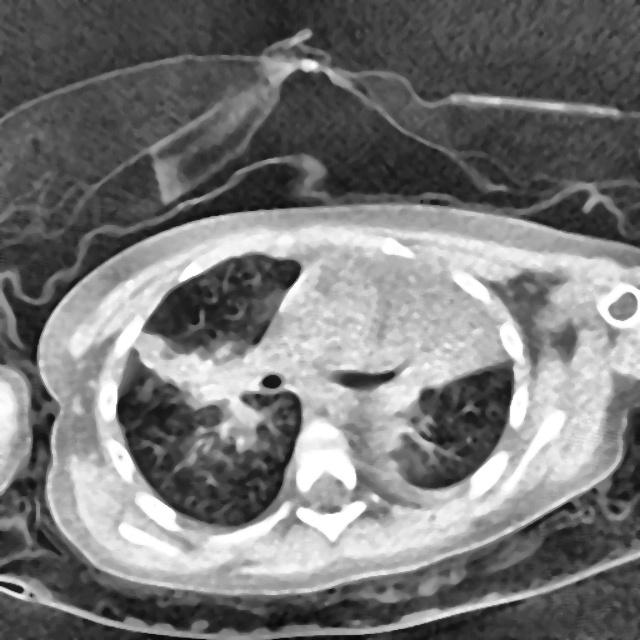covid: (36, 201, 638, 602)
